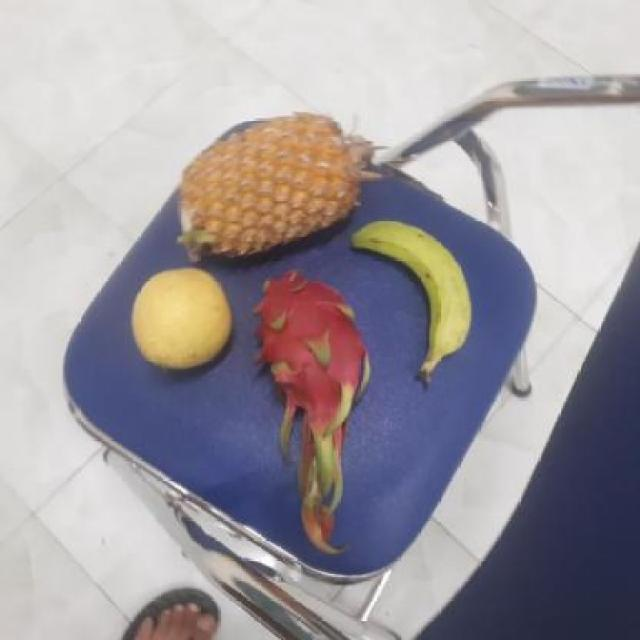banana: (345, 218, 473, 368)
dragon fruit: (242, 270, 373, 422)
pear: (125, 270, 232, 372)
pineapple: (170, 113, 362, 270)
